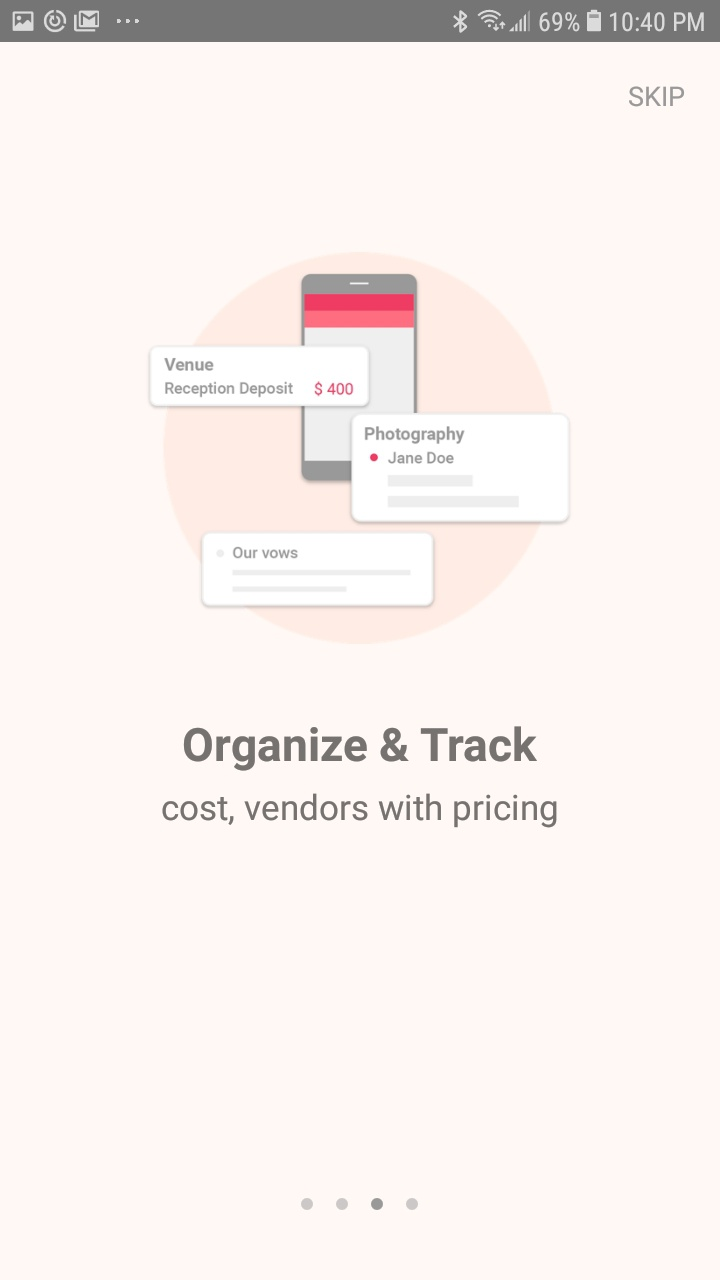Image: (149, 251, 572, 645)
PageIndicator: (301, 1197, 419, 1211)
Text: (184, 726, 538, 772), (162, 793, 558, 829), (628, 86, 685, 108)
UpperTaskBar: (1, 1, 720, 43)
